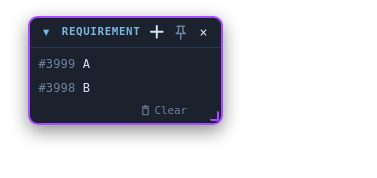
Test: Requirement Filer (req #3811) › Clear empties the filed list, and is drawn only while there is one (req #3975)
The width and height of the screenshot is (377, 178).
Click the button with test id "requirement-filer-item-3998" at (64,88), box [38, 81, 90, 95]
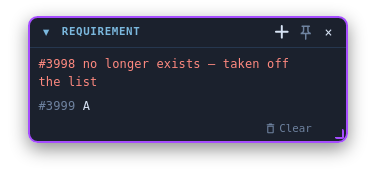
Expected: the text "#3998 no longer exists — taken off the list" is shown, [30, 52, 321, 94]
Click the button with test id "requirement-filer-clear" at (288,128), box [260, 121, 315, 136]
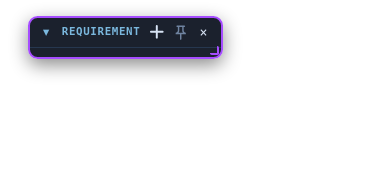
Expected: the button with test id "requirement-filer-item-3999" is gone
Expected: the text with test id "requirement-filer-note" is gone
Expected: the button with test id "requirement-filer-clear" is gone
